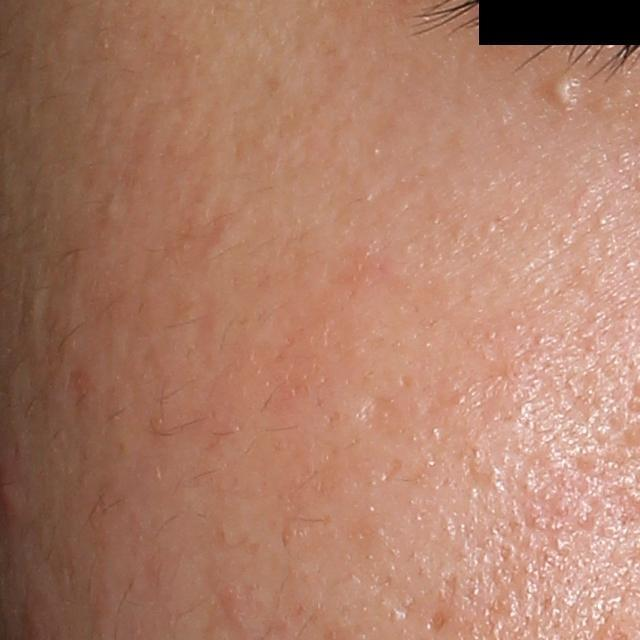atrophic_scar: (350, 395, 402, 436)
comedo: (548, 77, 574, 106), (104, 199, 123, 214)
papule: (0, 468, 26, 525)
